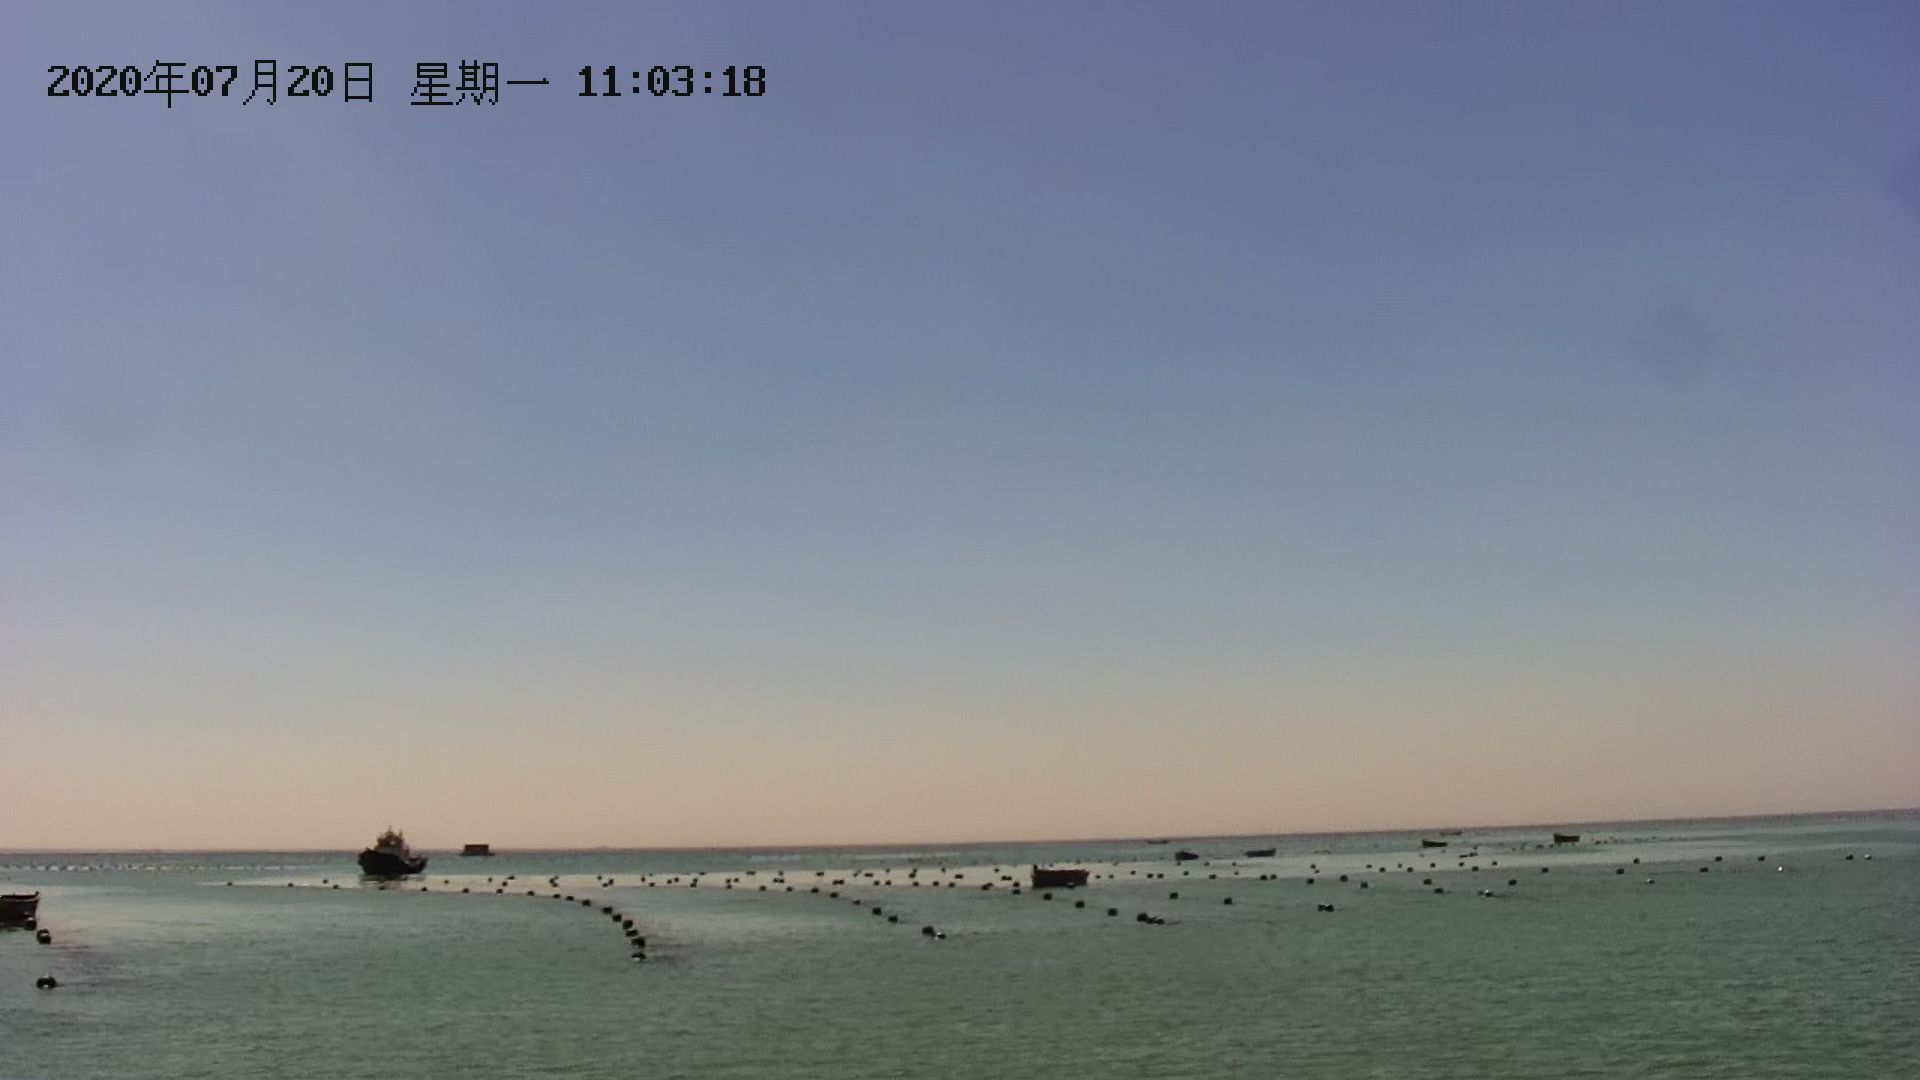ball: (30, 968, 69, 997)
boat: (1033, 860, 1091, 891)
platform: (450, 833, 500, 860)
ship: (349, 825, 431, 884)
